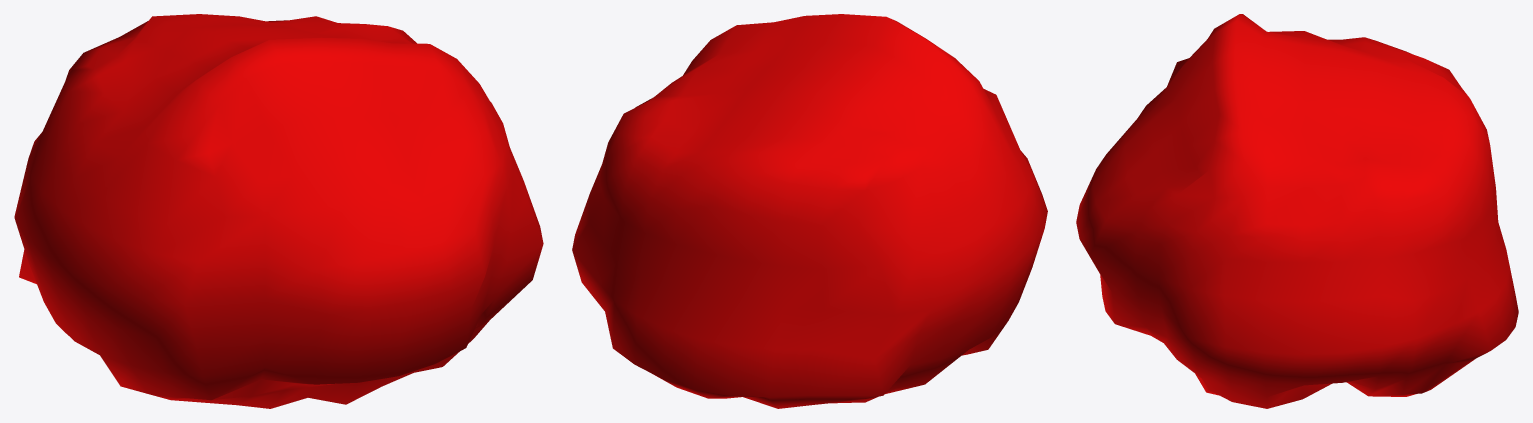
File: ice_weaponsRack_01_mesh.fbx
3 renders of one model, left to right at view 1: azimuth 30°, elevation 25°; view 2: azimuth 150°, elevation 25°; view 3: azimuth 270°, elevation 25°, orthographic. The views are drawn at different scales.
Visible parts, largest first — view 1: pCube1; view 2: pCube1; view 3: pCube1.
Part boxes in pixels (bbox=[...]): pCube1: bbox=[14, 14, 543, 408]; pCube1: bbox=[572, 14, 1047, 408]; pCube1: bbox=[1076, 14, 1518, 408].
Size of the model in its own units: 1.27 by 0.9738 by 1.21.
